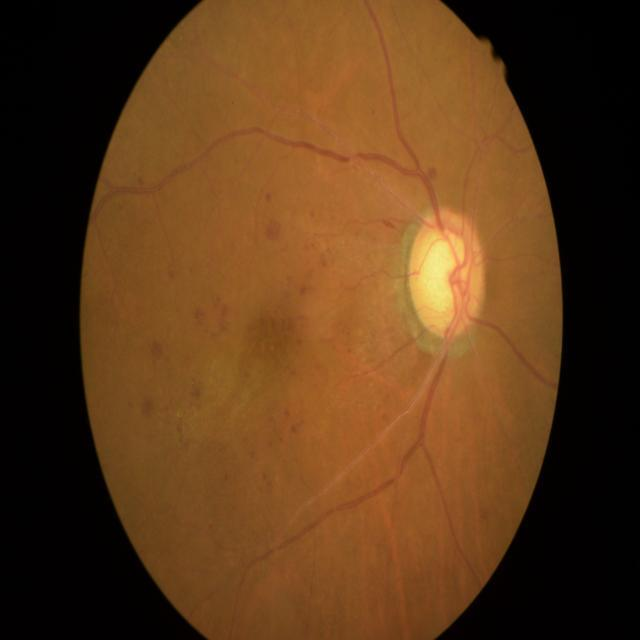cup: (419, 229, 472, 327)
disk: (407, 208, 488, 340)
